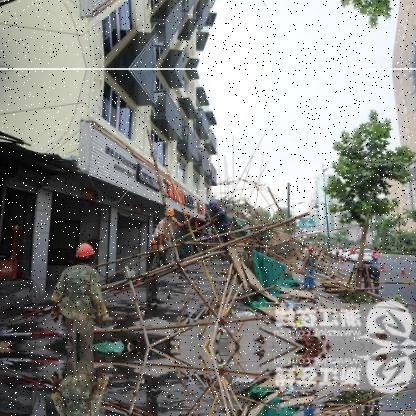helmet: (74, 241, 98, 264), (151, 235, 163, 248), (165, 205, 176, 218), (211, 196, 221, 208)
